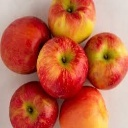apple: (82, 32, 128, 90)
